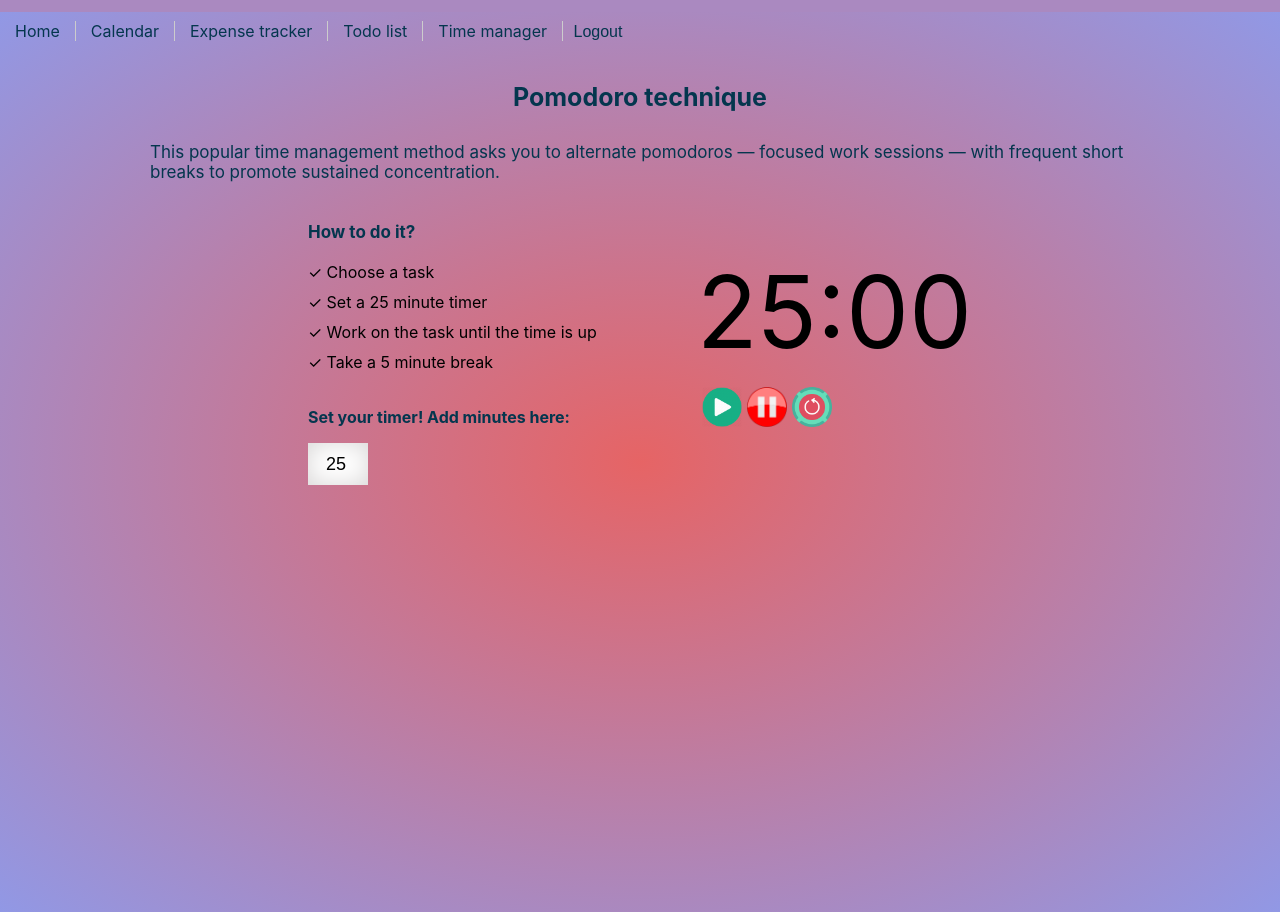
it: custom timers input › the input '1' is displayed as '01:00'
The width and height of the screenshot is (1280, 912).
Clear the number field at {"x": 338, "y": 464}, box [308,443,368,485]
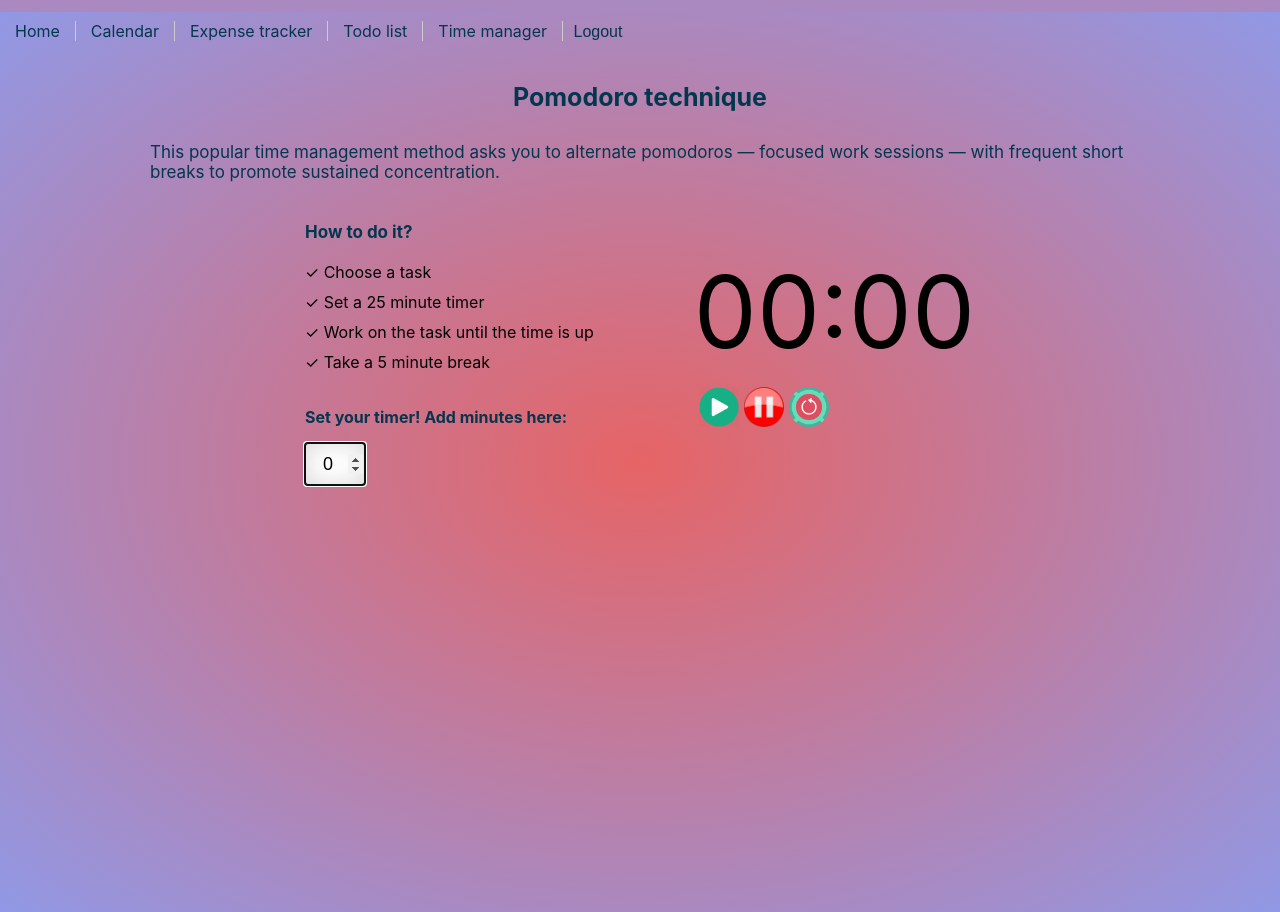
Type "1" into the number field at {"x": 335, "y": 464}, box [305,443,365,485]
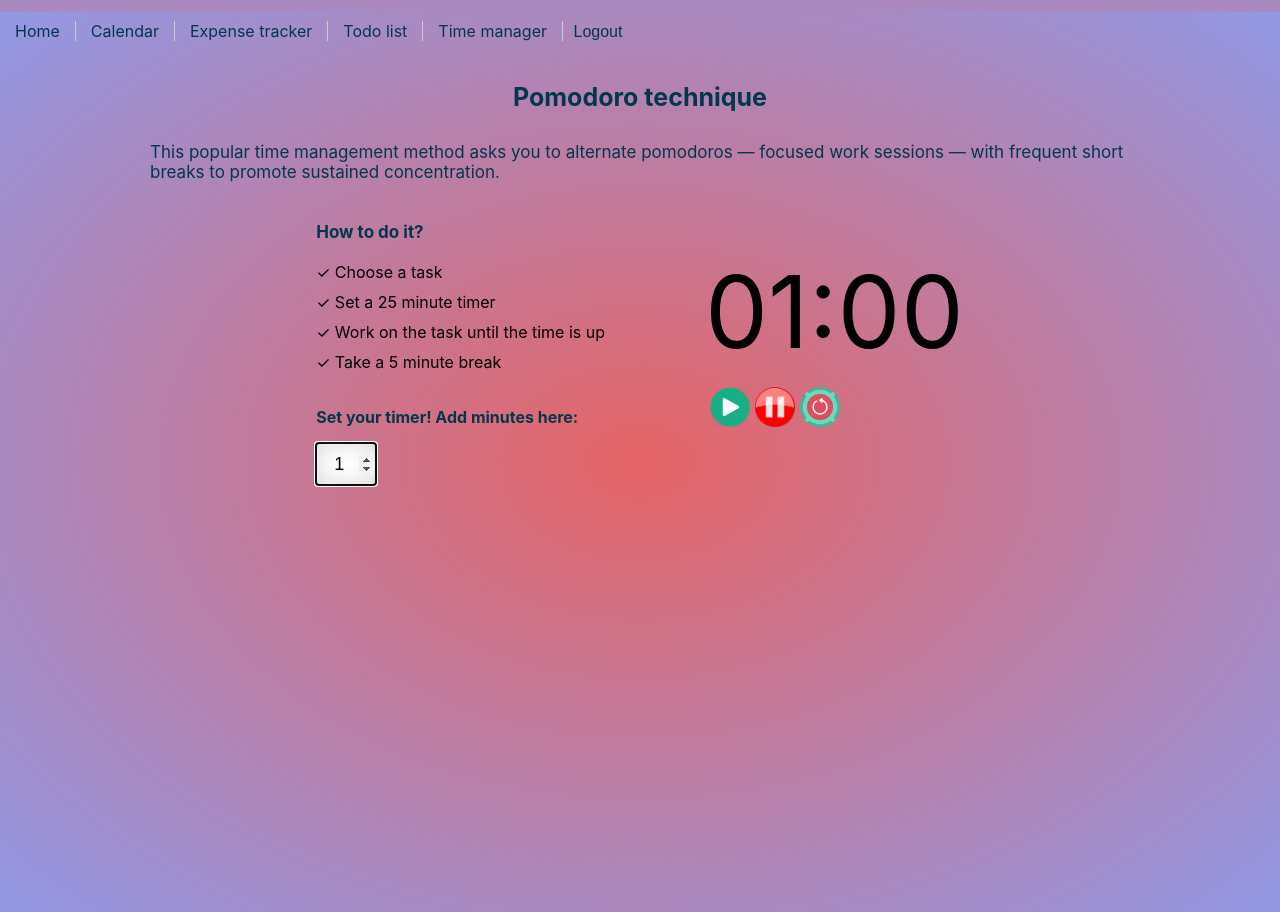
Expected: the text with test id "tid" reads "01:00", [705,251,964,372]
